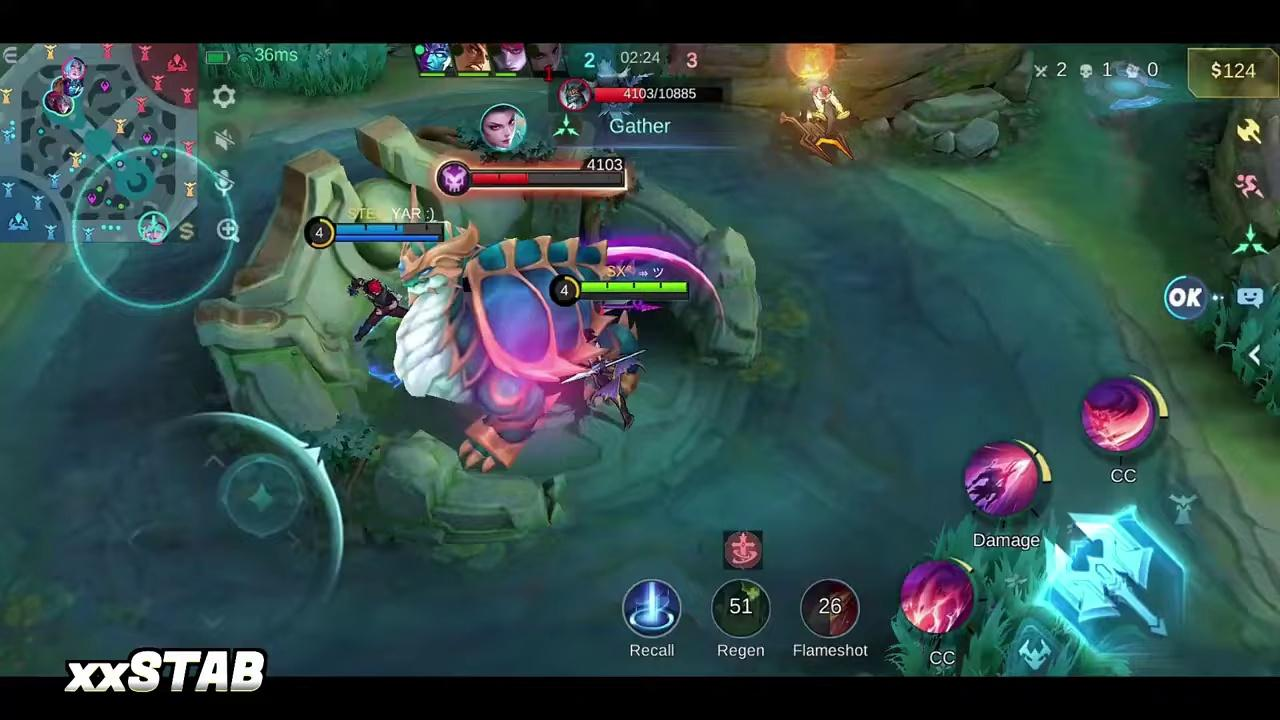Adc_Enemigo: (144, 221, 169, 247)
Arbusto: (885, 516, 1100, 677), (206, 45, 388, 97), (1211, 284, 1280, 413)
Arlott: (561, 320, 643, 437)
EXP_Lane: (2, 45, 24, 67)
Exp_Aliado: (53, 95, 77, 117)
Gold_Lane: (179, 219, 197, 243)
Gord: (777, 61, 869, 175)
HP_Aliado: (335, 226, 439, 234)
Julian: (342, 270, 431, 350)
Jungla_Aliado: (45, 90, 56, 112)
Jungla_Enemigo: (60, 56, 88, 82)
Minimapa: (1, 45, 200, 241)
Roamer_Aliado: (49, 74, 69, 96)
Skill1: (895, 563, 971, 634)
Skill2: (965, 442, 1047, 515)
Tortuga: (366, 214, 672, 478)
skill3: (1082, 375, 1164, 449)
